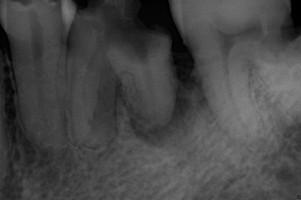Dental Caries: (115, 52, 199, 148)
